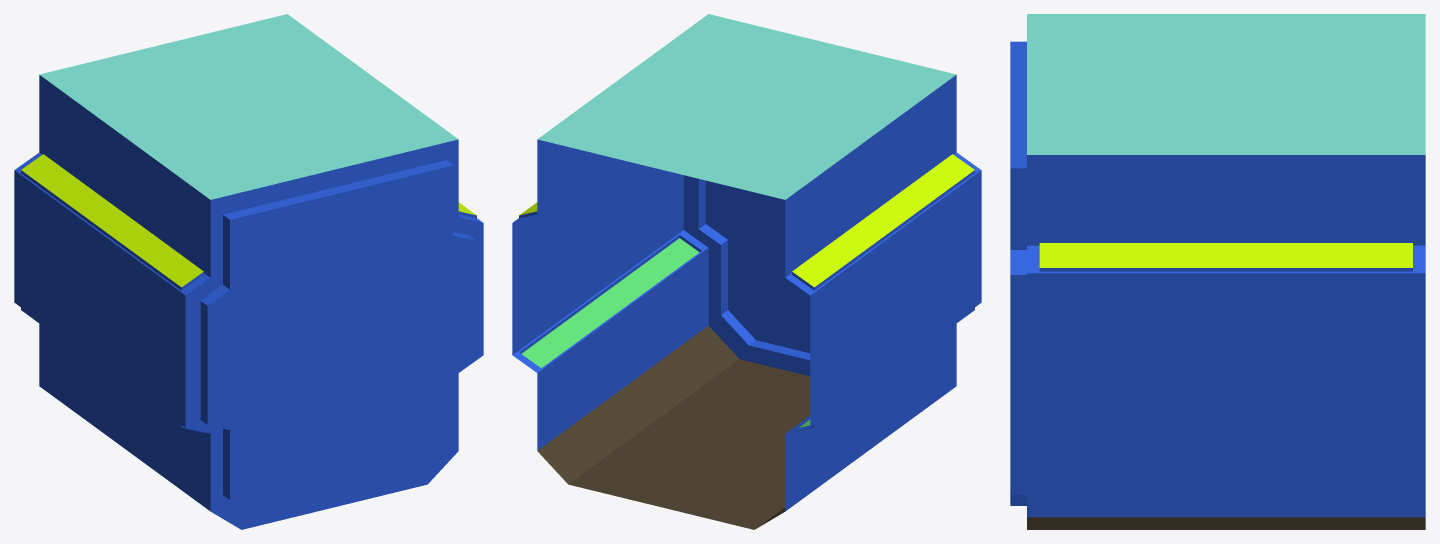
File: Dead_End.fbx
3 views of the same model, side by side, from view 1: azimuth 30°, elevation 25°; view 2: azimuth 150°, elevation 25°; view 3: azimuth 270°, elevation 25° (orthographic). The views are drawn at different scales.
Visible parts, largest first — view 1: Dead_End; view 2: Dead_End; view 3: Dead_End.
Boxes of the visible parts, left/top/right/bottom form: Dead_End: left=14, top=14, right=483, bottom=529; Dead_End: left=512, top=14, right=981, bottom=529; Dead_End: left=1010, top=14, right=1425, bottom=529.
Bounding box in the file's own units: 2.4 × 2.6 × 2.49.
